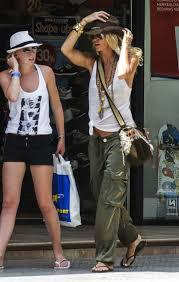Person: (60, 10, 147, 273), (1, 30, 70, 270)
